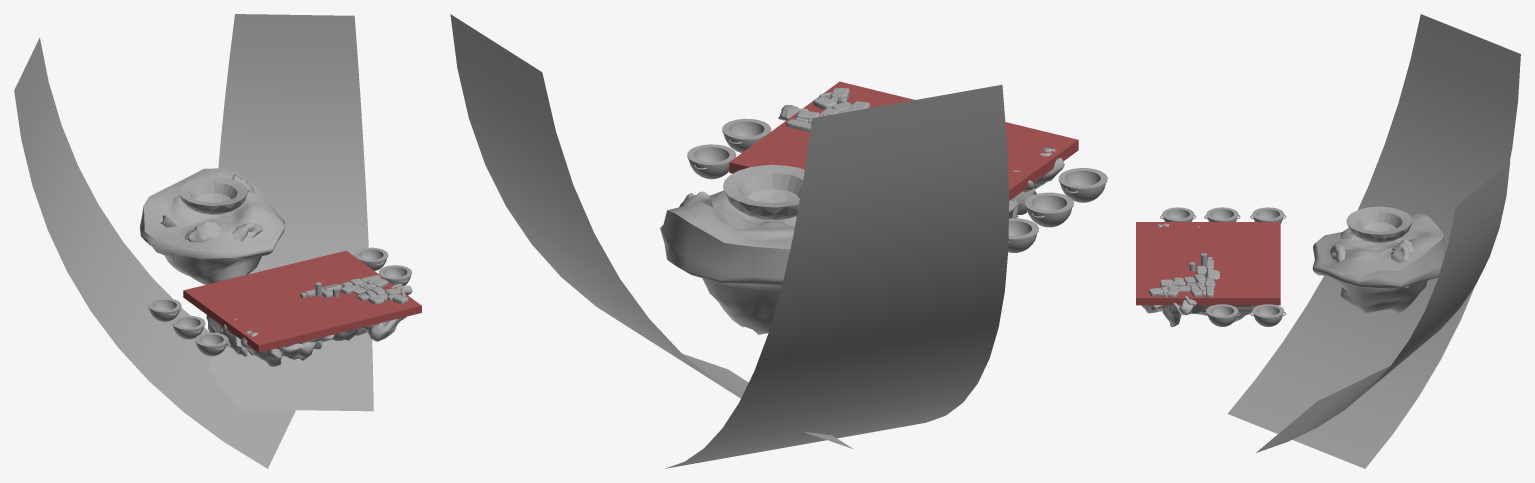
Rendered from prova.fbx.
3 views of the same model, side by side, from view 1: azimuth 30°, elevation 25°; view 2: azimuth 150°, elevation 25°; view 3: azimuth 270°, elevation 25° (orthographic). The views are drawn at different scales.
Parts seen in each view (by area): view 1: pPlane1, pPlane2, Plancia20x25, pSphere1, Icosphere_2_5, pTorus8, pTorus7, pTorus6, pTorus5, roccia02_8, roccia02_7, pTorus4 (+2 smaller); view 2: pPlane2, pPlane1, pSphere1, Plancia20x25, Icosphere_2_5, pTorus7, pTorus8, pTorus5, pTorus4, pTorus6; view 3: pPlane2, Plancia20x25, pPlane1, pSphere1, Icosphere_2_5, pTorus5, pTorus4, pTorus6, pTorus8, pTorus7, roccia02_9.
Part boxes in pixels (<box>): pPlane1: <box>209,14,373,411</box>; pPlane2: <box>14,37,295,468</box>; Plancia20x25: <box>183,250,421,352</box>; pSphere1: <box>139,168,285,284</box>; Icosphere_2_5: <box>179,177,247,214</box>; pTorus8: <box>195,332,228,356</box>; pTorus7: <box>172,315,205,339</box>; pTorus6: <box>148,298,181,321</box>; pTorus5: <box>354,247,388,270</box>; roccia02_8: <box>185,221,226,242</box>; roccia02_7: <box>280,340,322,360</box>; pTorus4: <box>378,265,411,285</box>; pPlane2: <box>665,85,1009,468</box>; pPlane1: <box>450,14,853,449</box>; pSphere1: <box>660,190,796,334</box>; Plancia20x25: <box>729,81,1078,200</box>; Icosphere_2_5: <box>723,164,804,220</box>; pTorus7: <box>1025,192,1073,227</box>; pTorus8: <box>1058,168,1107,202</box>; pTorus5: <box>687,144,736,179</box>; pTorus4: <box>722,118,771,152</box>; pTorus6: <box>1008,218,1038,252</box>; pPlane2: <box>1227,14,1520,468</box>; Plancia20x25: <box>1136,222,1280,305</box>; pPlane1: <box>1256,161,1510,452</box>; pSphere1: <box>1312,211,1445,312</box>; Icosphere_2_5: <box>1346,206,1412,242</box>; pTorus5: <box>1250,304,1286,326</box>; pTorus4: <box>1204,304,1240,326</box>; pTorus6: <box>1250,207,1286,223</box>; pTorus8: <box>1160,207,1196,221</box>; pTorus7: <box>1204,207,1240,221</box>; roccia02_9: <box>1390,239,1414,288</box>.
Bounding box in the file's own units: 550 × 508 × 532.
